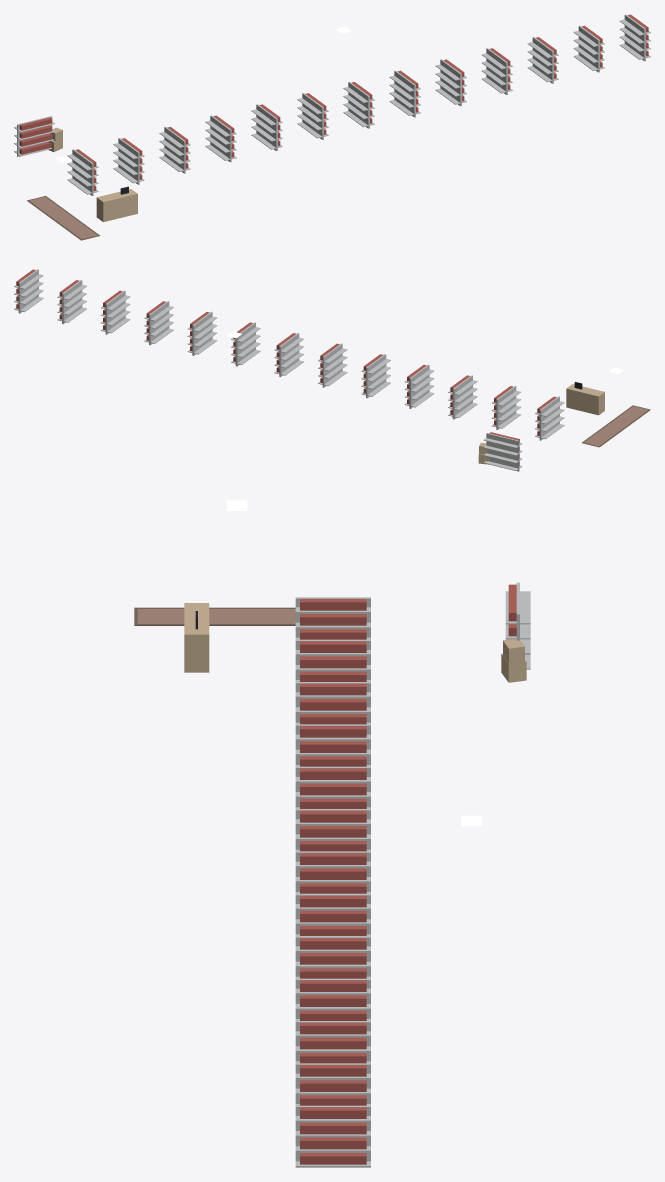
Rendered from fine-s0.glb.
3 renders of one model, top to bottom at view 1: azimuth 30°, elevation 25°; view 2: azimuth 150°, elevation 25°; view 3: azimuth 270°, elevation 25°, orthographic. The views are drawn at different scales.
Visible parts, largest first — view 1: shelving.000, shop-counter.000, soft-s0, shelf.003, shelf.004, shelf.011, shelf.007, shelf.008, shelf.012, shelf.000, shelf.005, shelf.001 (+4 smaller); view 2: shelving.000, shop-counter.000, soft-s0, shelf.011, shelf.004, shelf.009, shelf.006, shelf.012, shelf.010, shelf.002, shelf.003, shelf.005 (+4 smaller); view 3: shelf.012, shelf.000, shelf.003, shelf.006, shelf.008, shelf.011, shelf.001, shelf.002, shelf.004, shelf.005, shelf.007, shelf.009 (+5 smaller).
Part boxes in pixels (x1,y1,x2,y2): shelving.000: (14,116,54,156); shop-counter.000: (96,186,137,221); soft-s0: (27,196,99,240); shelf.003: (205,115,236,162); shelf.004: (251,104,282,150); shelf.011: (573,25,604,72); shelf.007: (389,70,420,117); shelf.008: (435,59,466,106); shelf.012: (619,14,650,61); shelf.000: (67,149,98,195); shelf.005: (297,93,328,139); shelf.001: (113,138,144,184); shelving.000: (483,432,522,471); shop-counter.000: (566,382,604,415); soft-s0: (582,405,650,447); shelf.011: (57,280,86,324); shelf.004: (361,354,390,398); shelf.009: (144,301,173,345); shelf.006: (274,333,303,376); shelf.012: (14,269,43,313); shelf.010: (100,290,130,334); shelf.002: (448,375,477,419); shelf.003: (404,364,434,408); shelf.005: (318,343,347,387); shelf.012: (295,1105,370,1167); shelf.000: (295,597,370,639); shelf.003: (295,724,370,766); shelf.006: (295,851,370,893); shelf.008: (295,936,370,978); shelf.011: (295,1063,370,1105); shelf.001: (295,639,370,681); shelf.002: (295,682,370,724); shelf.004: (295,766,370,808); shelf.005: (295,809,370,851); shelf.007: (295,893,370,935); shelf.009: (295,978,370,1020).
Size of the model in its own units: 31.94 by 2.97 by 9.49.
